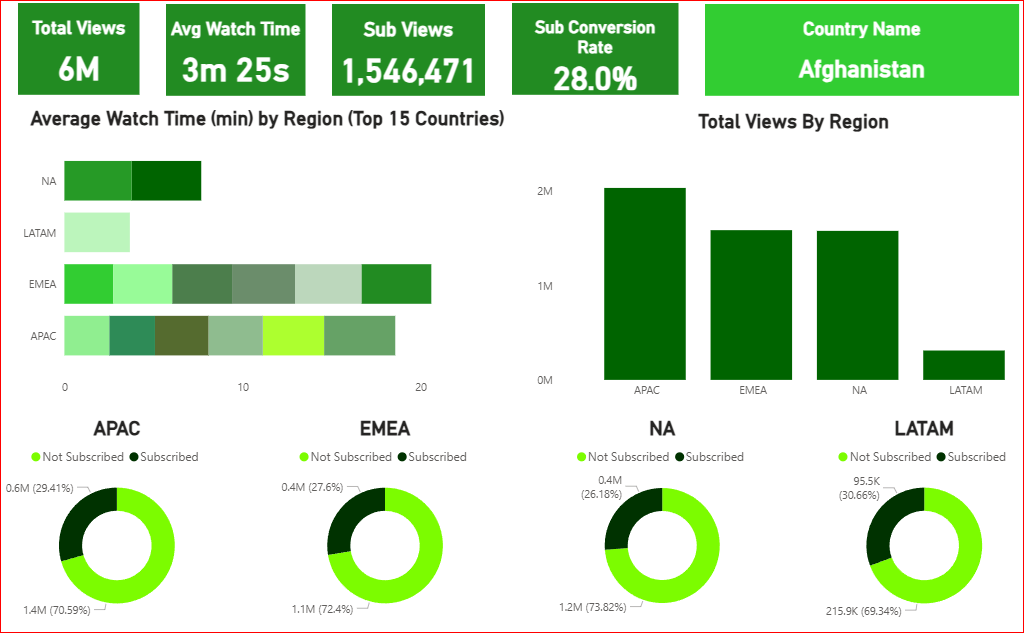

What the dashboard file says about the page in this screenshot:
{"tool":"powerbi","page":{"name":"Section 1","canvas":[1280,720],"ordinal":1},"visuals":[{"type":"card","title":"Country Name","fields":{"Values":["Min(Country_Lookup.country_name)"]},"box":[885,4.3,348.8,102],"z":0,"group":"g1"},{"type":"card","title":"Total Views","fields":{"Values":["Measure Table.Total Views"]},"box":[122.5,3.1,135,102],"z":1000,"group":"g1"},{"type":"card","title":"Sub Conversion Rate","fields":{"Values":["Measure Table.Subscriber Conversion Rate (%)"]},"box":[670.6,3.4,185,102],"z":2000,"group":"g1"},{"type":"card","title":"Sub Views","fields":{"Values":["Measure Table.Subscriber Views"]},"box":[471.2,3.7,170,102],"z":3000,"group":"g1"},{"type":"card","title":"Avg Watch Time","fields":{"Values":["Measure Table.Readable Avg Watch Time"]},"box":[286.9,4,155,102],"z":4000,"group":"g1"},{"type":"barChart","title":"Average Watch Time (min) by Region (Top 15 Countries)","fields":{"Category":["Country_Lookup.region"],"Y":["Measure Table.Avg Watch Time (min)"],"Series":["Country_Lookup.country_name"]},"box":[117.5,118.9,562.7,329.9],"z":5000,"group":"g1"},{"type":"columnChart","title":"Total Views By Region","fields":{"Category":["Country_Lookup.region"],"Y":["Measure Table.Total Views"]},"box":[693.1,121.8,581.5,329.9],"z":6000,"group":"g1"},{"type":"donutChart","title":"APAC","fields":{"Y":["Measure Table.Total Views"],"Series":["Country_Lookup.region"],"Category":["Video_Stats.Subscriber Status"]},"box":[80,463,304.1,232.9],"z":7000,"group":"g1"},{"type":"donutChart","title":"EMEA","fields":{"Y":["Measure Table.Total Views"],"Series":["Country_Lookup.region"],"Category":["Video_Stats.Subscriber Status"]},"box":[380.1,462.6,300.1,232.9],"z":8000,"group":"g1"},{"type":"donutChart","title":"LATAM","fields":{"Y":["Measure Table.Total Views"],"Series":["Country_Lookup.region"],"Category":["Video_Stats.Subscriber Status"]},"box":[977.7,462.6,302.8,232.9],"z":9000,"group":"g1"},{"type":"donutChart","title":"NA","fields":{"Y":["Measure Table.Total Views"],"Series":["Country_Lookup.region"],"Category":["Video_Stats.Subscriber Status"]},"box":[693.6,462.6,289.4,232.9],"z":10000,"group":"g1"},{"type":"group","id":"g1","title":"Group 1","box":[80,3.1,1200.5,692.9],"z":10001}]}

Visuals, with their boxes on the page's 1280x720 design canvas (x1, y1, x2, y2). These are canvas units, not pixel positions in the 1024x633 screenshot, which may show the page scaled, cropped or inside an application window:
"Country Name" card: bbox(885, 4, 1234, 106)
"Total Views" card: bbox(122, 3, 258, 105)
"Sub Conversion Rate" card: bbox(671, 3, 856, 105)
"Sub Views" card: bbox(471, 4, 641, 106)
"Avg Watch Time" card: bbox(287, 4, 442, 106)
"Average Watch Time (min) by Region (Top 15 Countries)" barChart: bbox(118, 119, 680, 449)
"Total Views By Region" columnChart: bbox(693, 122, 1275, 452)
"APAC" donutChart: bbox(80, 463, 384, 696)
"EMEA" donutChart: bbox(380, 463, 680, 696)
"LATAM" donutChart: bbox(978, 463, 1280, 696)
"NA" donutChart: bbox(694, 463, 983, 696)
"Group 1" group: bbox(80, 3, 1280, 696)
